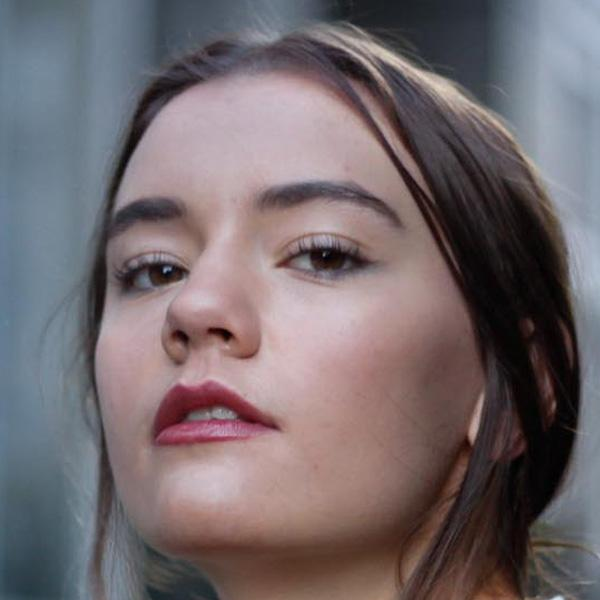Eyes: (264, 225, 380, 293), (106, 238, 200, 309)
